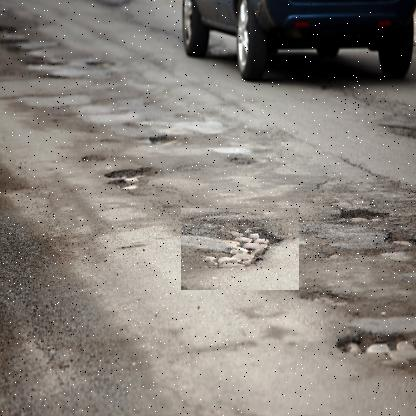damage: (180, 208, 299, 291)
pothole: (100, 146, 165, 209), (328, 183, 392, 235)
